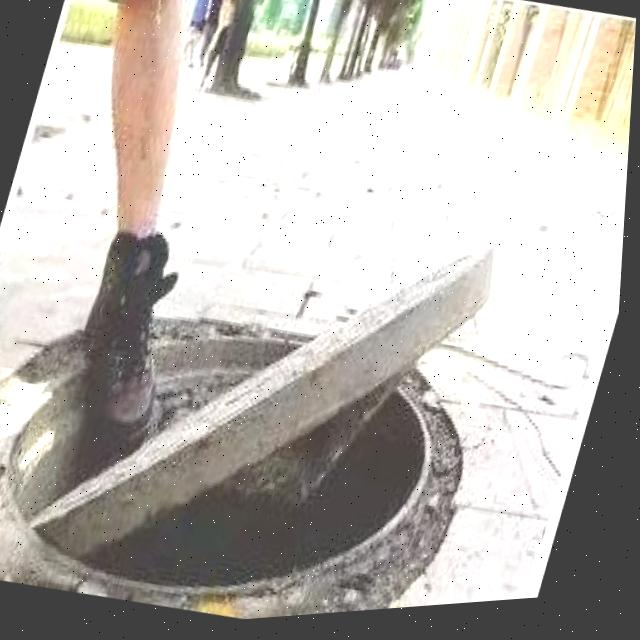manhole: (0, 210, 509, 640)
